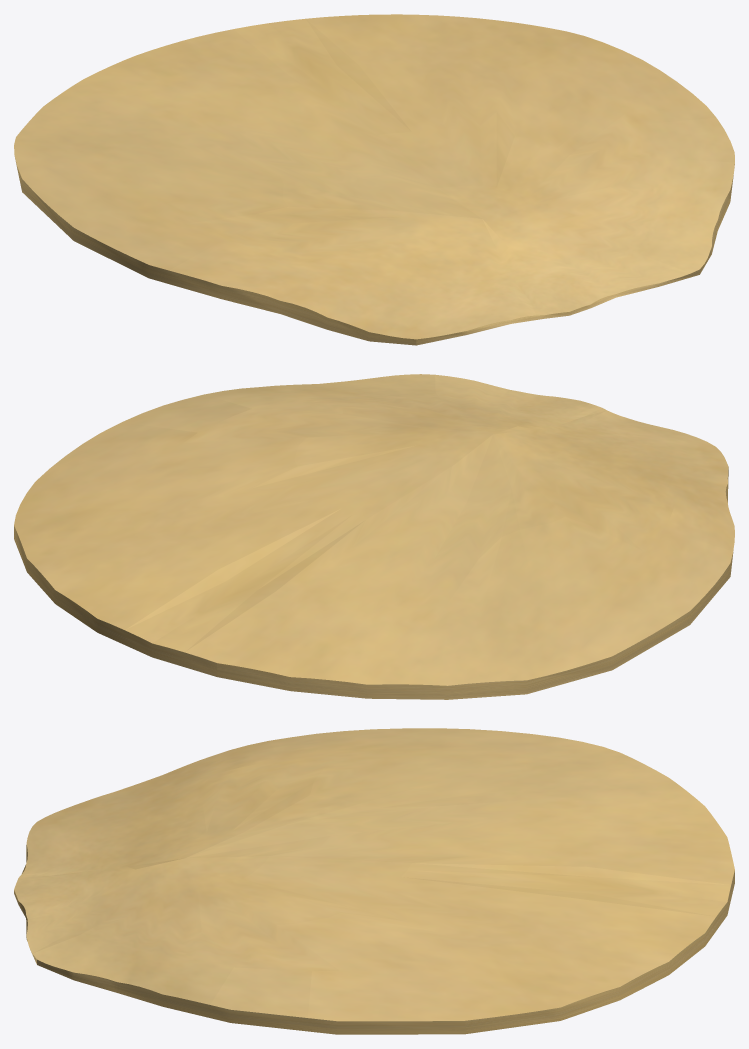
3 renders of one model, top to bottom at view 1: azimuth 30°, elevation 25°; view 2: azimuth 150°, elevation 25°; view 3: azimuth 270°, elevation 25°, orthographic. The views are drawn at different scales.
Visible parts, largest first — view 1: Base; view 2: Base; view 3: Base.
Part boxes in pixels (<box>): Base: <box>14,14,734,345</box>; Base: <box>14,374,734,699</box>; Base: <box>14,728,734,1034</box>.
Size of the model in its own units: 15947 by 1029 by 16540.
